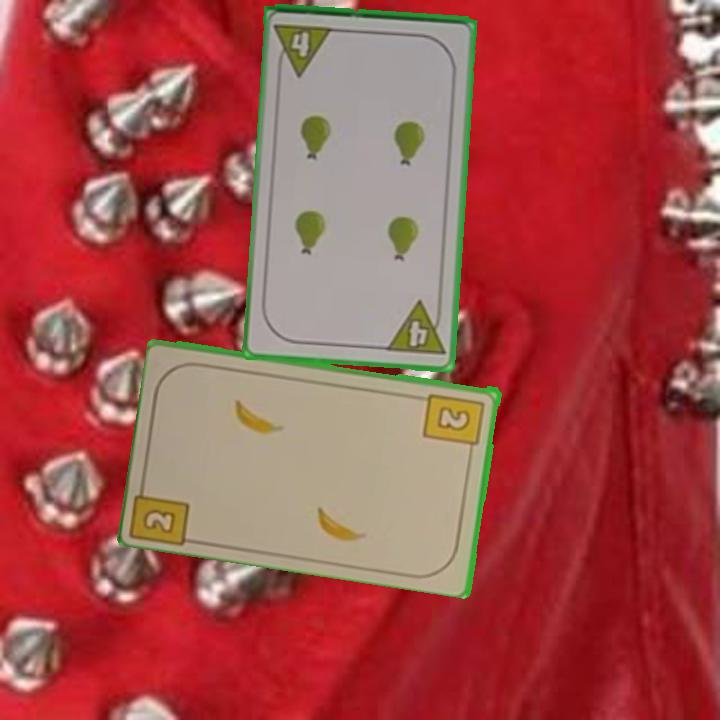2b: (130, 474, 194, 546), (421, 389, 488, 457)
4p: (382, 297, 448, 359), (271, 20, 336, 79)
